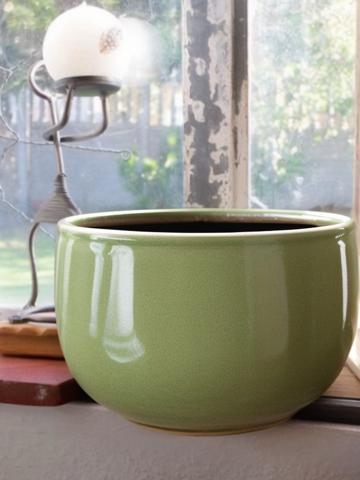pottedplant: (54, 207, 360, 436)
